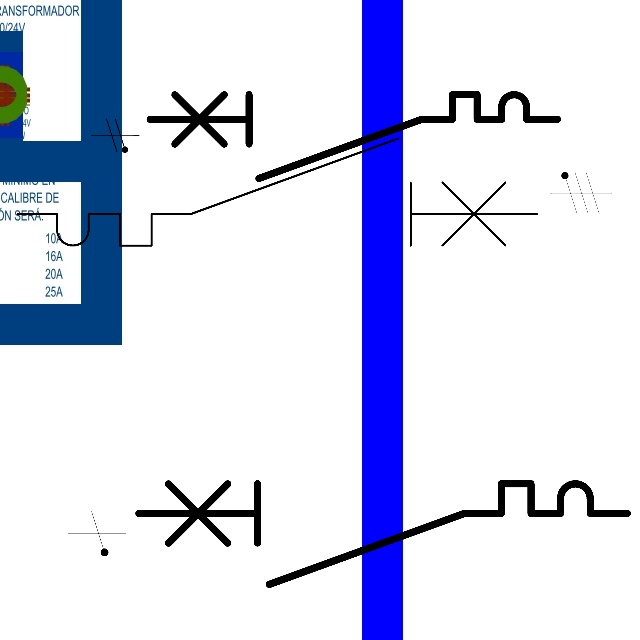interruptor_termomagnetico: (4, 125, 550, 259), (126, 471, 640, 597), (139, 84, 568, 189)
